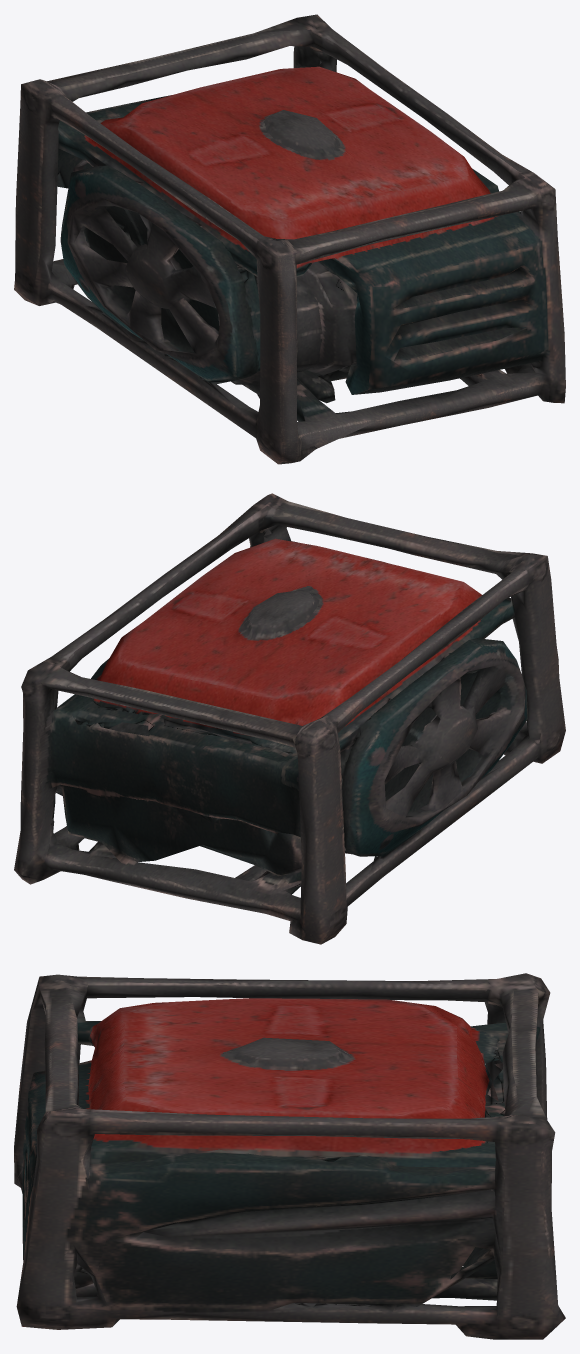
The model's file is generator_candidate.glb.
The picture shows the model from 3 angles, top to bottom: view 1: azimuth 30°, elevation 25°; view 2: azimuth 150°, elevation 25°; view 3: azimuth 270°, elevation 25°; orthographic projection. The views are drawn at different scales.
Parts seen in each view (by area): view 1: generator_candidate; view 2: generator_candidate; view 3: generator_candidate.
Boxes of the visible parts, bbox=[...] form: generator_candidate: bbox=[14, 14, 565, 464]; generator_candidate: bbox=[14, 493, 565, 944]; generator_candidate: bbox=[14, 973, 565, 1339].
Bounding box in the file's own units: 0.8 × 0.6 × 1.2.
1 material, 1 textured.
